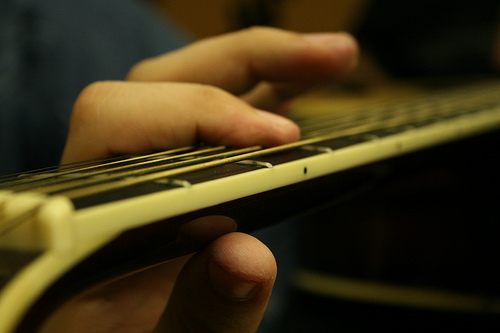guitar: (1, 81, 500, 333)
